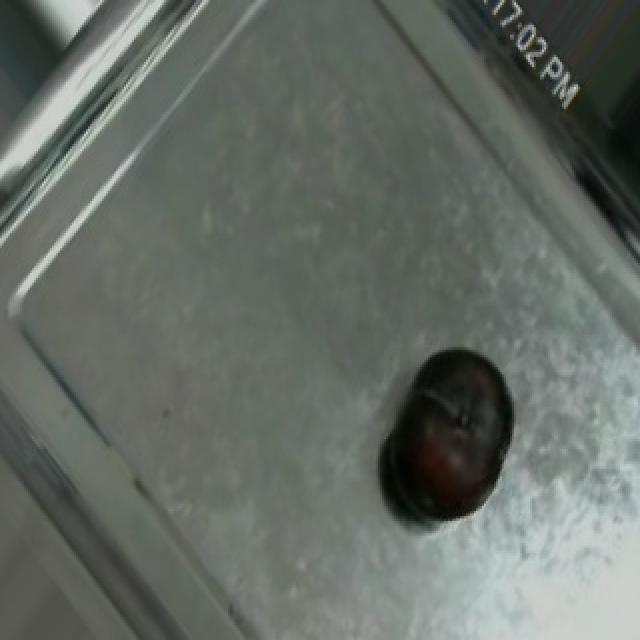Fruit: (368, 322, 540, 538)
